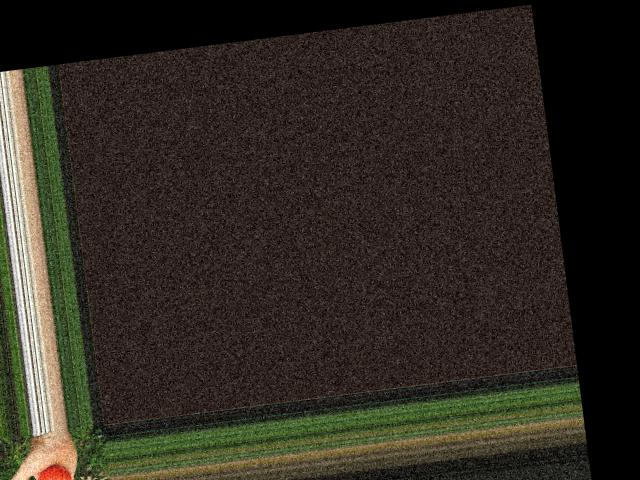tomato: (36, 463, 74, 480)
